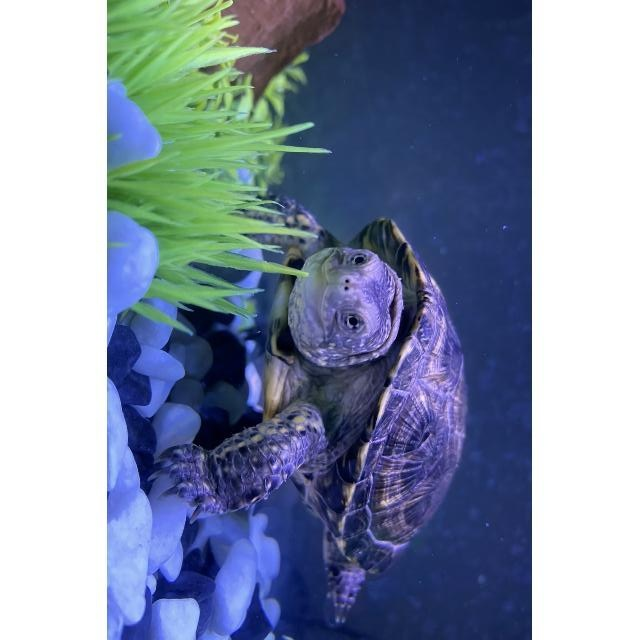turtle: (153, 192, 466, 627)
